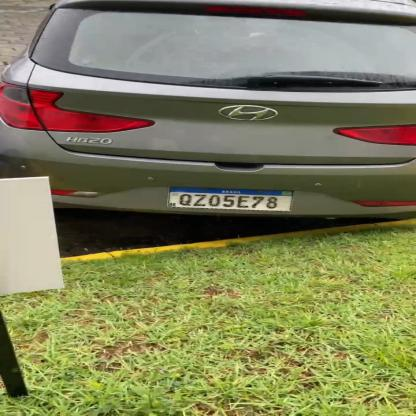Plate: (169, 182, 299, 215)
